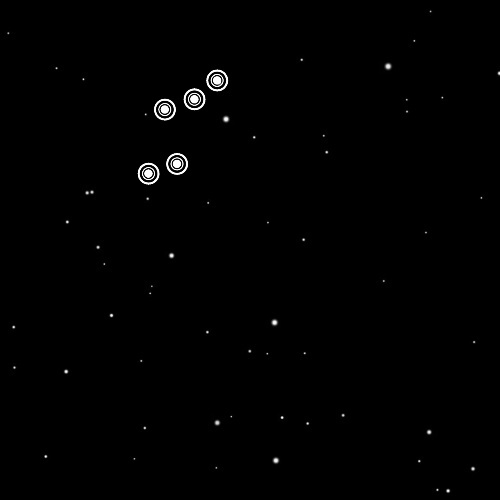lyra: (130, 62, 234, 197)
